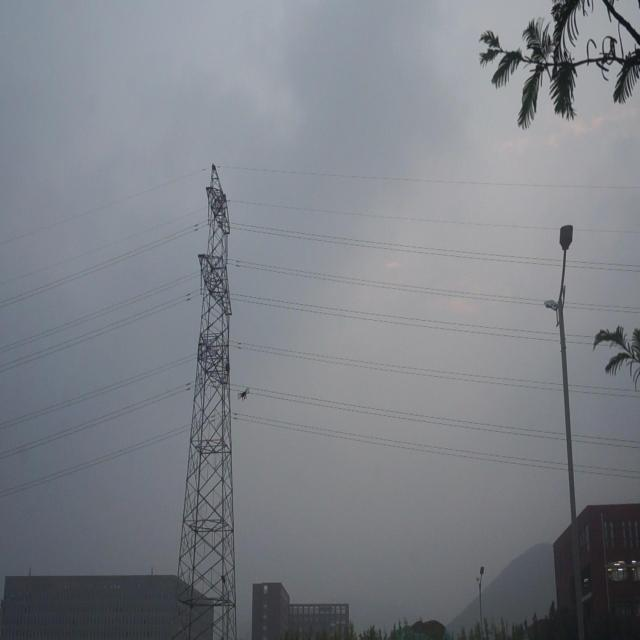drone: (235, 386, 251, 404)
